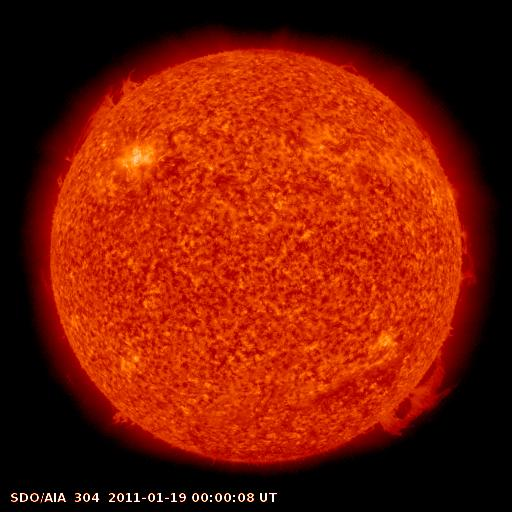prominence: (50, 60, 161, 185), (367, 346, 466, 445), (447, 220, 498, 292), (98, 393, 150, 443), (325, 47, 372, 91)
